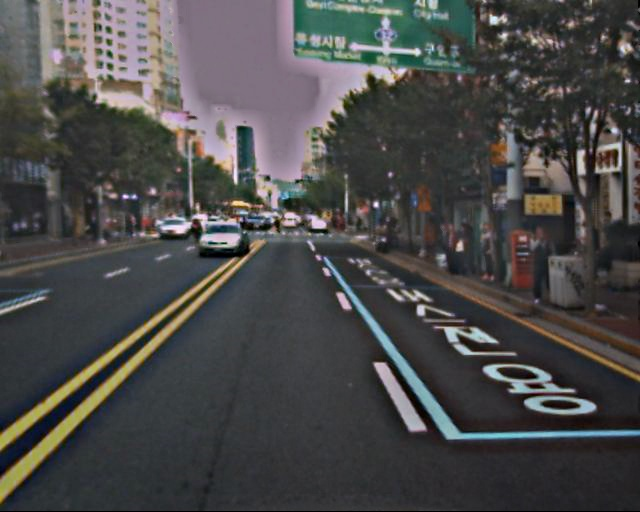person: (524, 224, 557, 305), (476, 226, 499, 283), (457, 222, 479, 275), (442, 225, 463, 275)
